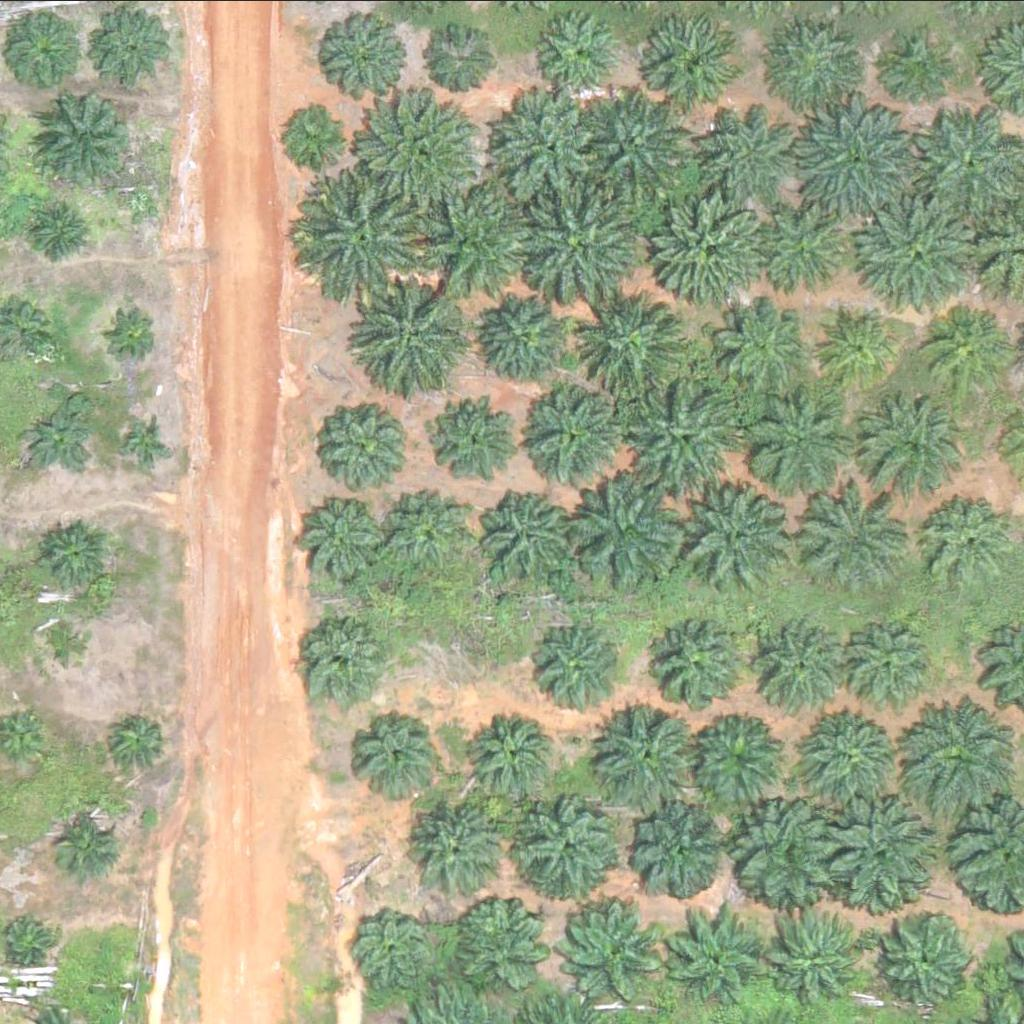Kelapa_Sawit: (307, 173, 433, 298), (362, 85, 476, 198), (575, 289, 689, 402), (797, 103, 910, 216), (425, 182, 538, 295), (526, 191, 639, 304), (646, 194, 759, 307), (706, 296, 819, 409), (900, 697, 1013, 810), (827, 799, 940, 912), (864, 187, 978, 299), (740, 385, 854, 497), (856, 388, 970, 500), (572, 479, 686, 591), (577, 86, 690, 198), (490, 91, 603, 203), (631, 380, 744, 492), (588, 704, 701, 816), (516, 787, 629, 899), (735, 794, 848, 906), (684, 100, 785, 200), (468, 280, 569, 380), (312, 396, 413, 496), (804, 496, 905, 596), (532, 620, 633, 720), (753, 615, 854, 715), (842, 614, 943, 714), (794, 705, 895, 805), (686, 713, 787, 813), (408, 797, 509, 897), (875, 905, 976, 1005), (771, 905, 872, 1005), (665, 910, 766, 1010), (562, 895, 663, 995), (35, 91, 136, 191), (646, 11, 746, 111), (366, 285, 466, 385), (522, 383, 622, 483), (691, 492, 791, 592), (475, 487, 575, 587), (647, 611, 747, 711), (628, 801, 728, 901), (440, 891, 540, 991), (324, 13, 413, 101), (814, 302, 902, 390), (536, 12, 624, 100), (760, 213, 848, 301), (926, 310, 1014, 398), (428, 401, 516, 489), (922, 499, 1010, 587), (297, 619, 385, 707), (468, 716, 556, 804), (767, 19, 855, 106), (383, 482, 471, 569), (300, 494, 388, 581), (357, 707, 445, 794), (353, 903, 441, 990), (47, 805, 123, 880), (429, 24, 505, 99), (93, 8, 169, 83), (37, 516, 112, 591), (19, 400, 94, 475), (16, 23, 79, 86), (107, 707, 170, 770), (34, 199, 97, 262), (281, 102, 344, 165), (886, 34, 949, 97), (111, 311, 162, 361), (120, 418, 171, 468), (1, 910, 51, 960), (42, 616, 92, 666)
